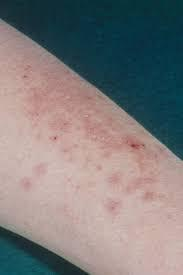Goosebumps: (0, 20, 182, 274)
